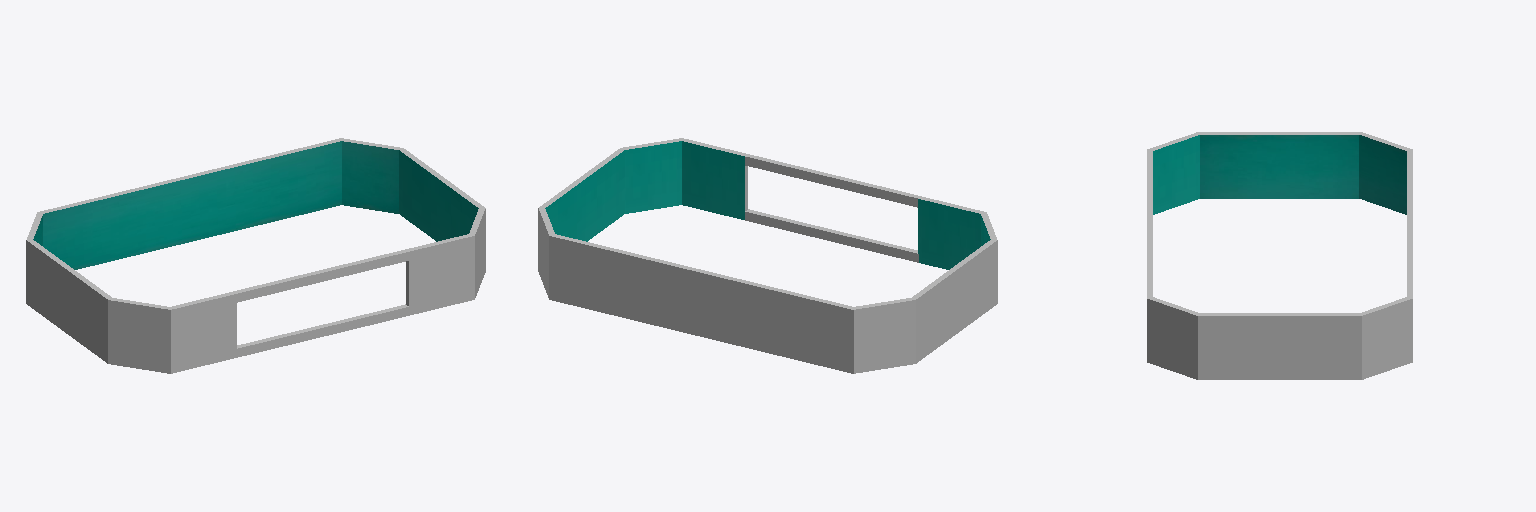
3 renders of one model, left to right at view 1: azimuth 30°, elevation 25°; view 2: azimuth 150°, elevation 25°; view 3: azimuth 270°, elevation 25°, orthographic.
Visible parts, largest first — view 1: polySurface6; view 2: polySurface6; view 3: polySurface6.
Part boxes in pixels (x1,y1,x2,y2): polySurface6: (26, 138, 485, 373); polySurface6: (538, 138, 997, 373); polySurface6: (1147, 132, 1412, 379).
Size of the model in its own units: 127 by 20.66 by 77.93.
3 materials, 1 textured.